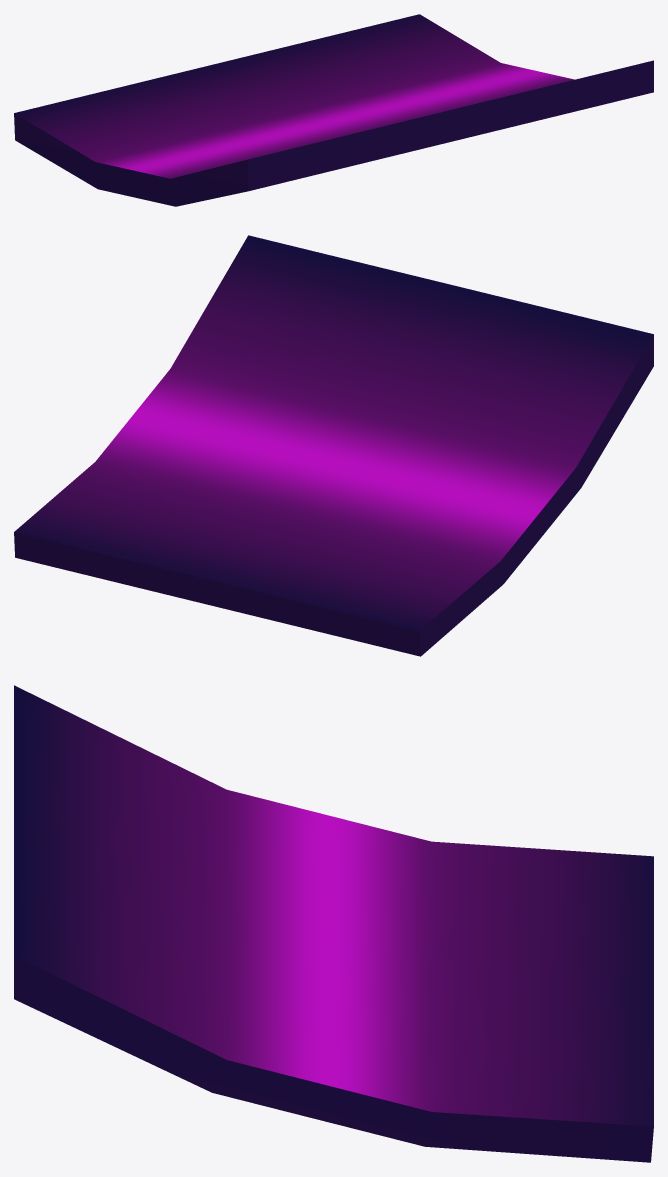
The model's file is urban_ramp.gltf.
The picture shows the model from 3 angles, top to bottom: view 1: azimuth 30°, elevation 25°; view 2: azimuth 150°, elevation 25°; view 3: azimuth 270°, elevation 25°; orthographic projection. The views are drawn at different scales.
Visible parts, largest first — view 1: urban_ramp_glb; view 2: urban_ramp_glb; view 3: urban_ramp_glb.
Boxes of the visible parts, left/top/right/bottom form: urban_ramp_glb: left=14, top=14, right=653, bottom=206; urban_ramp_glb: left=14, top=235, right=653, bottom=656; urban_ramp_glb: left=14, top=685, right=653, bottom=1162.
Size of what is drawn, in the model's own units: 4.02 by 1.44 by 4.02.
Materials: 1 (1 with a texture image).
